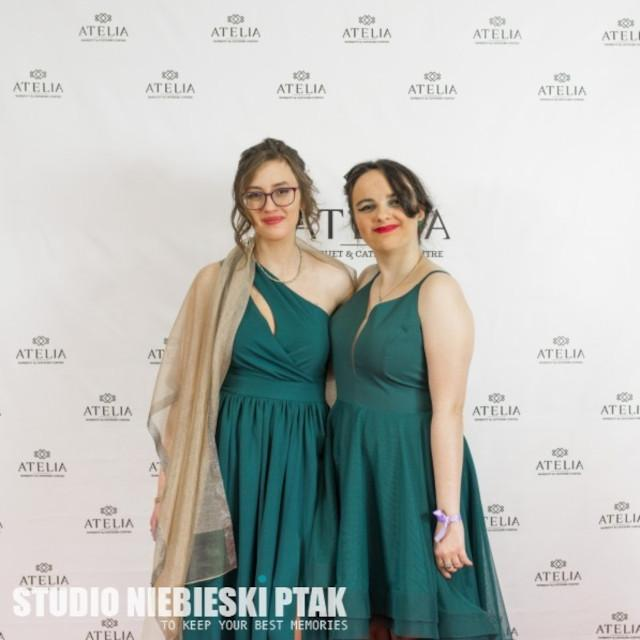kobieta: (177, 139, 349, 640), (340, 159, 477, 640)
